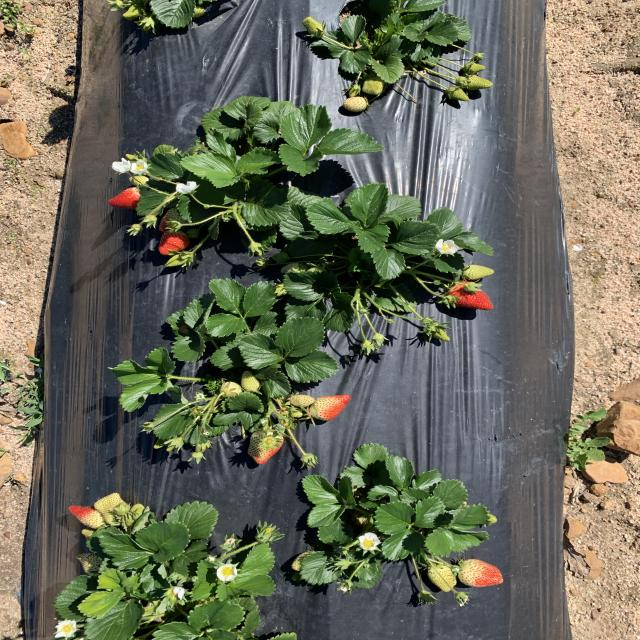unripe: (446, 282, 496, 313), (157, 229, 192, 256), (107, 187, 145, 210)
